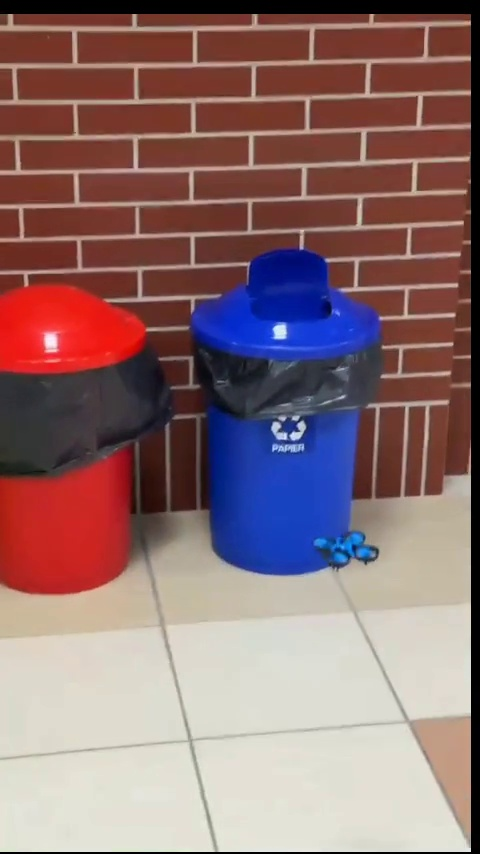drone: (311, 529, 374, 571)
